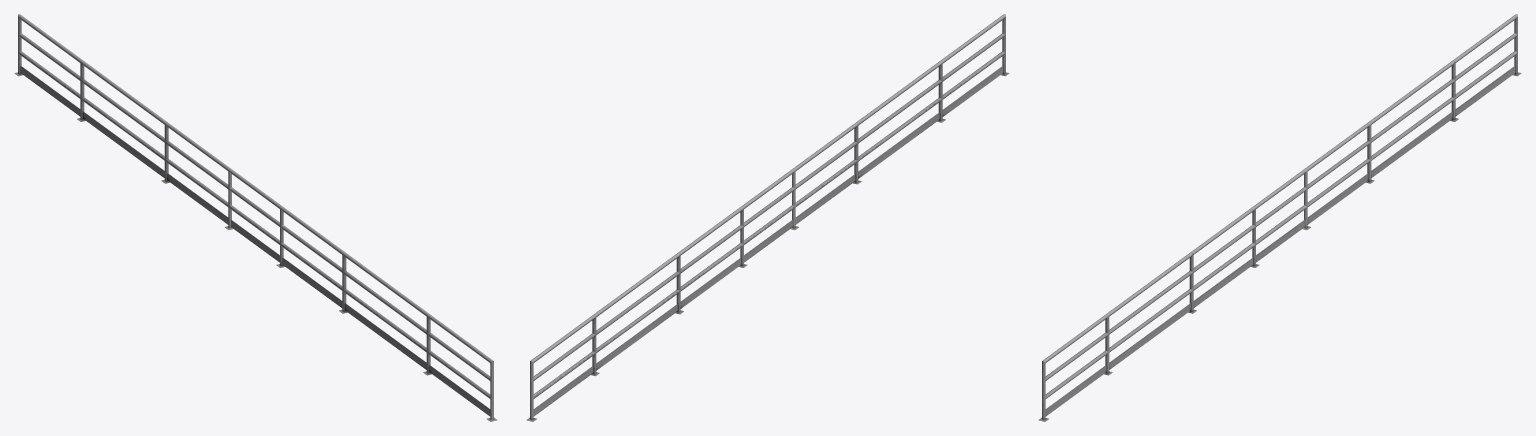
3 views of the same model, side by side, from view 1: azimuth 30°, elevation 25°; view 2: azimuth 150°, elevation 25°; view 3: azimuth 330°, elevation 25° (orthographic).
Visible parts, largest first — view 1: body0_model0_lod0_mesh0; view 2: body0_model0_lod0_mesh0; view 3: body0_model0_lod0_mesh0.
Boxes of the visible parts, x1,y1,x2,y2 form: body0_model0_lod0_mesh0: (14,14,497,421); body0_model0_lod0_mesh0: (526,14,1009,421); body0_model0_lod0_mesh0: (1038,14,1521,421).
Bounding box in the file's own units: 3.98 × 32.99 × 480.
1 material, 1 textured.
